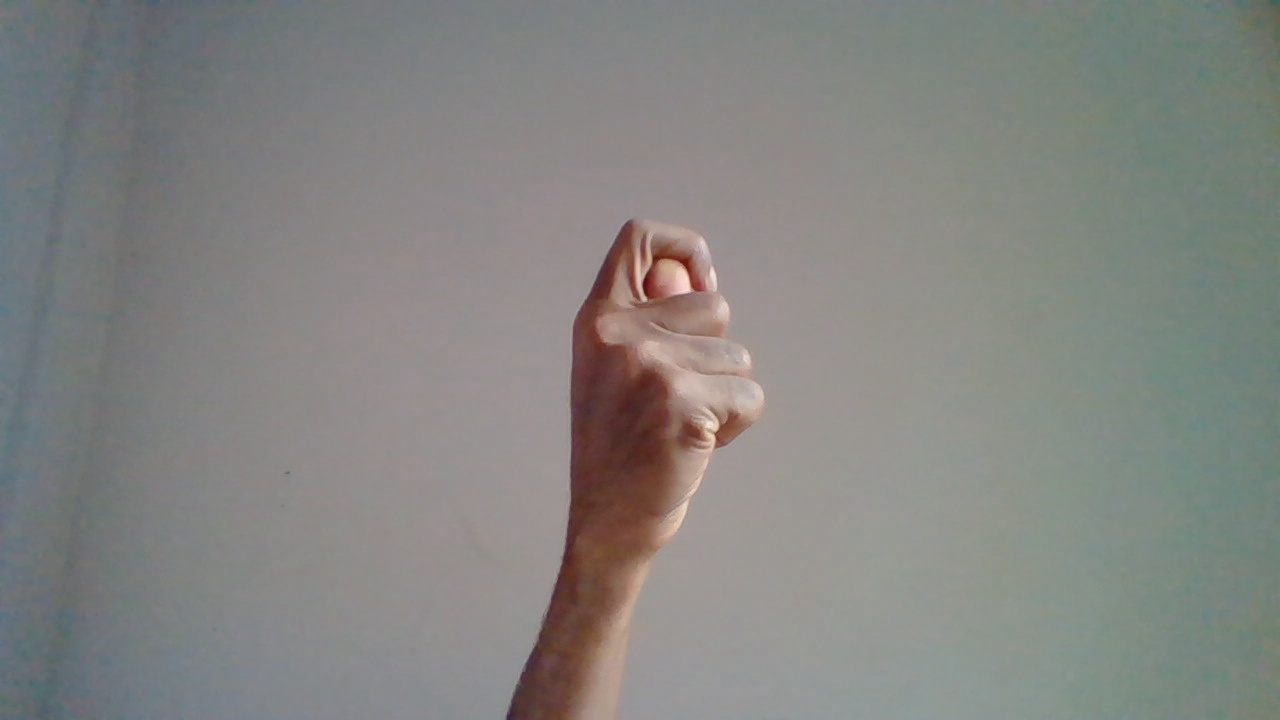che: (568, 212, 773, 666)
